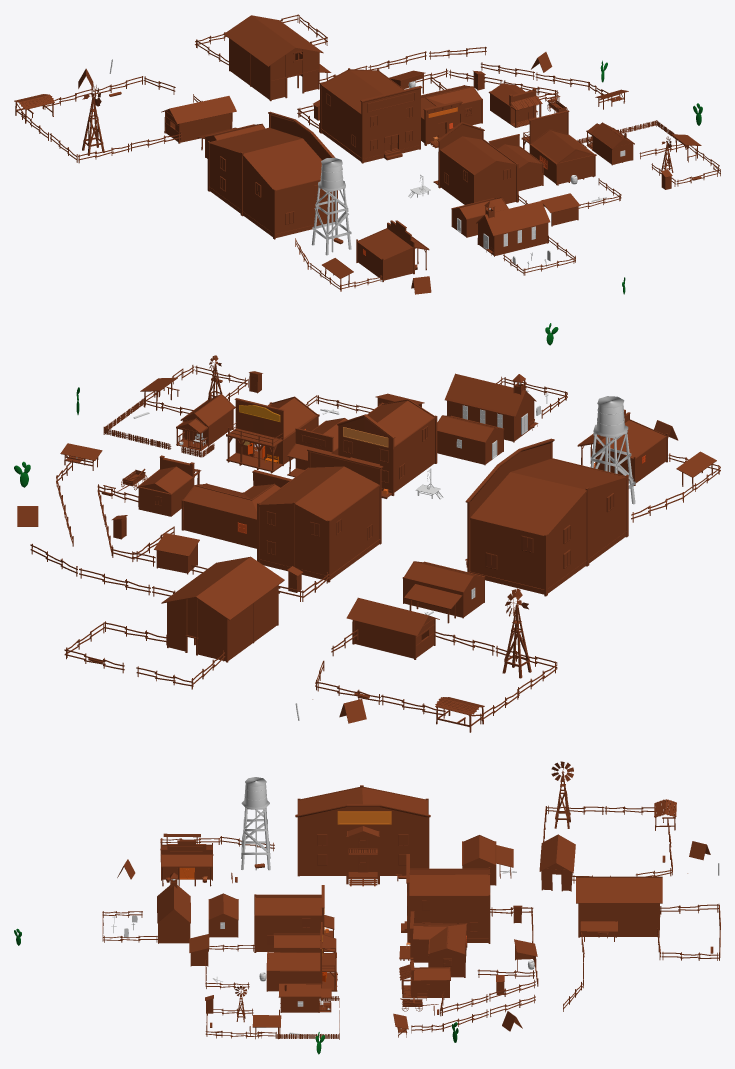
Rendered from town.glb.
3 renders of one model, top to bottom at view 1: azimuth 30°, elevation 25°; view 2: azimuth 150°, elevation 25°; view 3: azimuth 270°, elevation 25°, orthographic. The views are drawn at different scales.
Visible parts, largest first — view 1: Cube.011, Cube.012, Cube.026, Cube.015, Cube.001, Cube.031, Cube.014, Cube, Cube.008, Cylinder, Cube.003, Cube.005 (+6 smaller); view 2: Cube.011, Cube.012, Cube.026, Cube.015, Cube.001, Cube, Cube.031, Cube.008, Cube.037, Cube.014, Cube.053, Cube.003 (+8 smaller); view 3: Cube.011, Cube.012, Cube.026, Cube.015, Cube, Cube.001, Cube.014, Cube.031, Cylinder, Cube.008, Cube.003, Cube.004 (+6 smaller).
Part boxes in pixels (bbox=[...]): Cube.011: bbox=[207, 111, 337, 239]; Cube.012: bbox=[320, 68, 422, 163]; Cube.026: bbox=[223, 15, 323, 101]; Cube.015: bbox=[433, 122, 518, 204]; Cube.001: bbox=[521, 110, 596, 185]; Cube.031: bbox=[476, 201, 550, 256]; Cube.014: bbox=[356, 220, 429, 281]; Cube: bbox=[421, 85, 482, 148]; Cube.008: bbox=[161, 96, 236, 143]; Cylinder: bbox=[311, 157, 351, 255]; Cube.003: bbox=[488, 83, 542, 127]; Cube.005: bbox=[488, 134, 544, 190]; Cube.011: bbox=[465, 438, 628, 596]; Cube.012: bbox=[257, 448, 383, 582]; Cube.026: bbox=[161, 556, 284, 662]; Cube.015: bbox=[337, 399, 437, 498]; Cube.001: bbox=[226, 396, 319, 473]; Cube: bbox=[181, 470, 291, 548]; Cube.031: bbox=[444, 373, 536, 442]; Cube.008: bbox=[346, 597, 439, 659]; Cube.037: bbox=[402, 561, 485, 618]; Cube.014: bbox=[577, 409, 667, 485]; Cube.053: bbox=[437, 415, 504, 465]; Cube.003: bbox=[137, 455, 201, 516]; Cube.011: bbox=[295, 785, 430, 886]; Cube.012: bbox=[401, 854, 490, 943]; Cube.026: bbox=[576, 876, 662, 937]; Cube.015: bbox=[254, 885, 334, 952]; Cube: bbox=[399, 911, 467, 977]; Cube.001: bbox=[266, 929, 337, 991]; Cube.014: bbox=[160, 840, 213, 886]; Cube.031: bbox=[157, 872, 190, 943]; Cylinder: bbox=[241, 777, 270, 870]; Cube.008: bbox=[539, 834, 575, 891]; Cube.003: bbox=[399, 957, 450, 998]; Cube.004: bbox=[278, 983, 331, 1012].
Bounding box in the file's own units: 5.26 × 0.8928 × 6.5.
